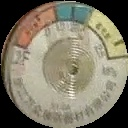green: (57, 1, 95, 25)
red: (12, 3, 58, 51)
yellow: (89, 9, 128, 61)
